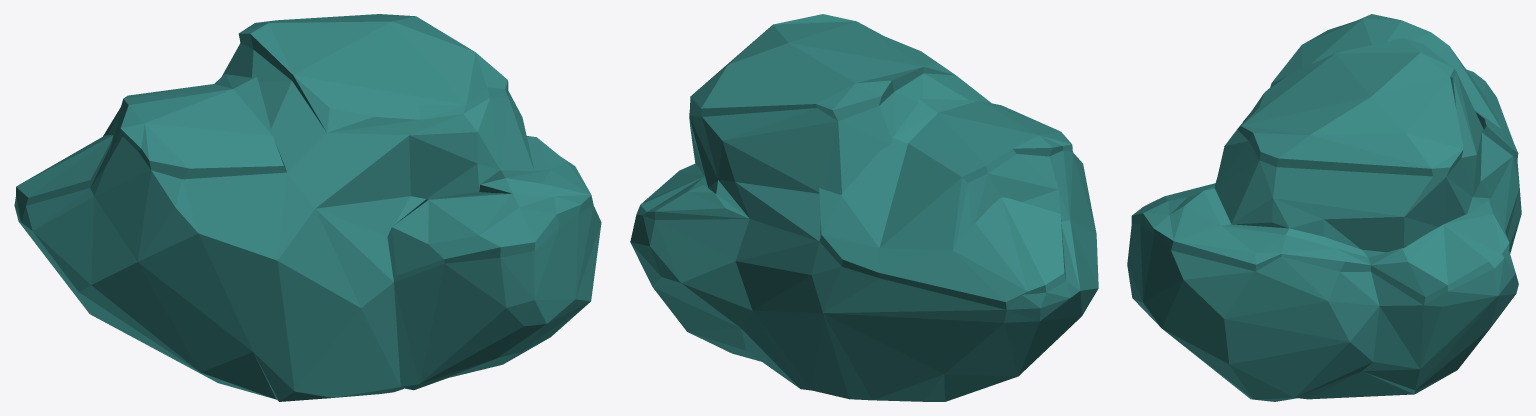
File: SM_Rock_Sea_Medium_Bumpy_Seaweed_A.fbx
The picture shows the model from 3 angles, left to right: view 1: azimuth 30°, elevation 25°; view 2: azimuth 150°, elevation 25°; view 3: azimuth 270°, elevation 25°; orthographic projection. The views are drawn at different scales.
Parts seen in each view (by area): view 1: rock-sea-medium-bumpy-seaweed-a; view 2: rock-sea-medium-bumpy-seaweed-a; view 3: rock-sea-medium-bumpy-seaweed-a.
Boxes of the visible parts, x1=… form: rock-sea-medium-bumpy-seaweed-a: x1=14, y1=14, x2=601, y2=401; rock-sea-medium-bumpy-seaweed-a: x1=630, y1=14, x2=1098, y2=401; rock-sea-medium-bumpy-seaweed-a: x1=1127, y1=14, x2=1521, y2=401.
Bounding box in the file's own units: 4.1 × 2.59 × 3.43.
